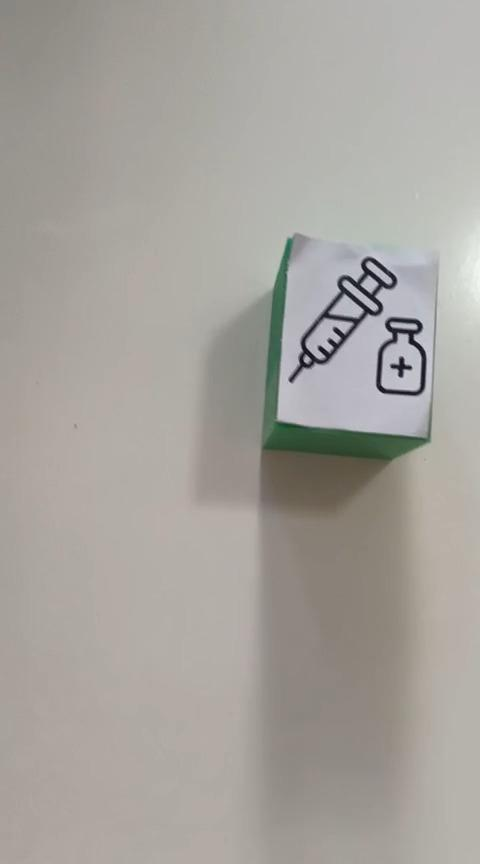antiseptic cream: (260, 231, 440, 461)
